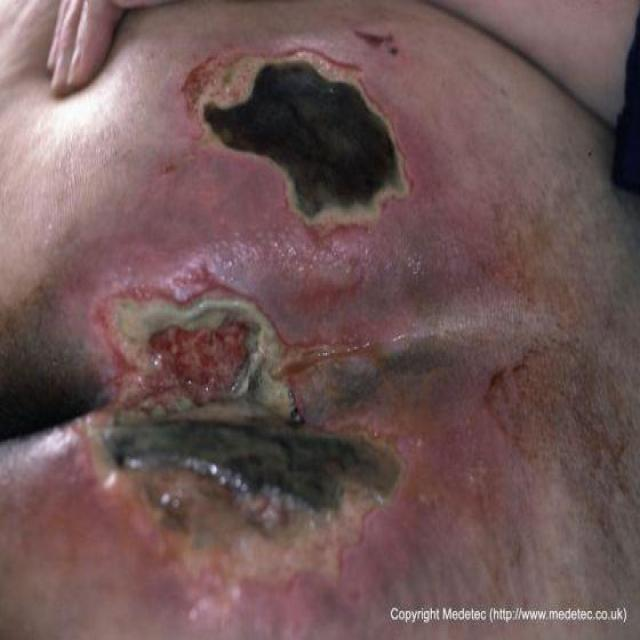Unstageable: (99, 290, 400, 577), (182, 54, 412, 223)
